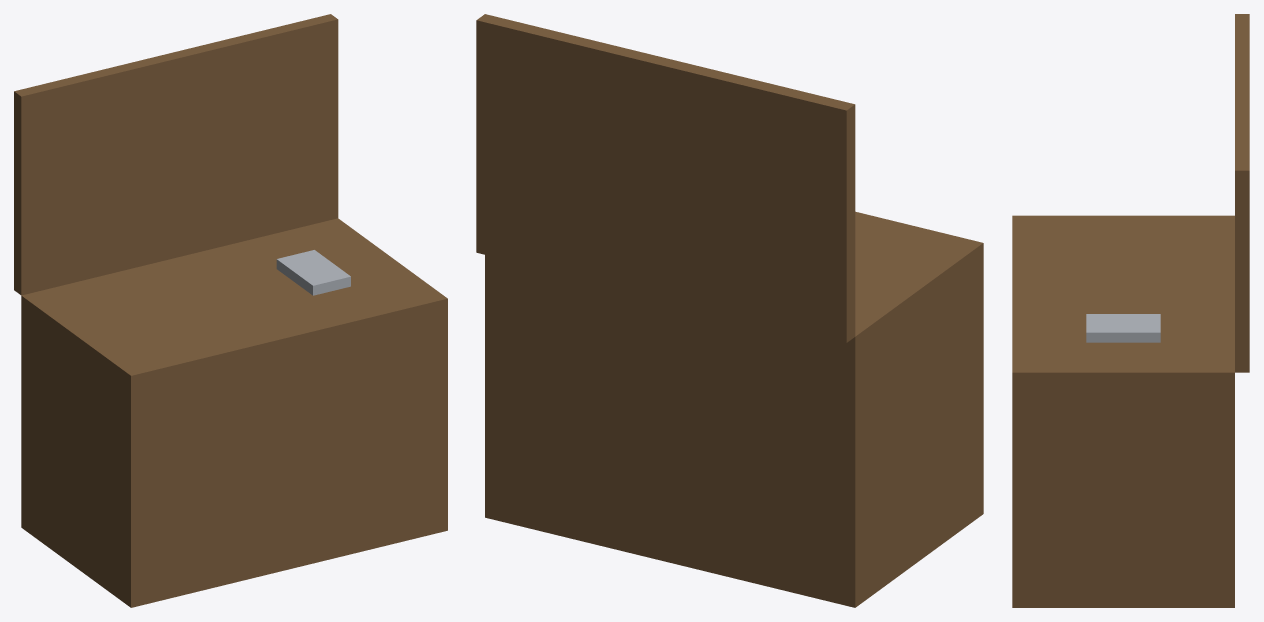
Rendered from seed bin.glb.
3 renders of one model, left to right at view 1: azimuth 30°, elevation 25°; view 2: azimuth 150°, elevation 25°; view 3: azimuth 270°, elevation 25°, orthographic. The views are drawn at different scales.
Parts seen in each view (by area): view 1: seed bin; view 2: seed bin; view 3: seed bin.
Part boxes in pixels (box(x1,y1,x2,y2)): seed bin: box(14, 14, 447, 607); seed bin: box(476, 14, 983, 607); seed bin: box(1012, 14, 1249, 607).
Size of the model in its own units: 1 by 1.3 by 0.64.
